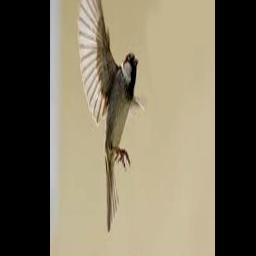Sparrow: (78, 0, 144, 231)
